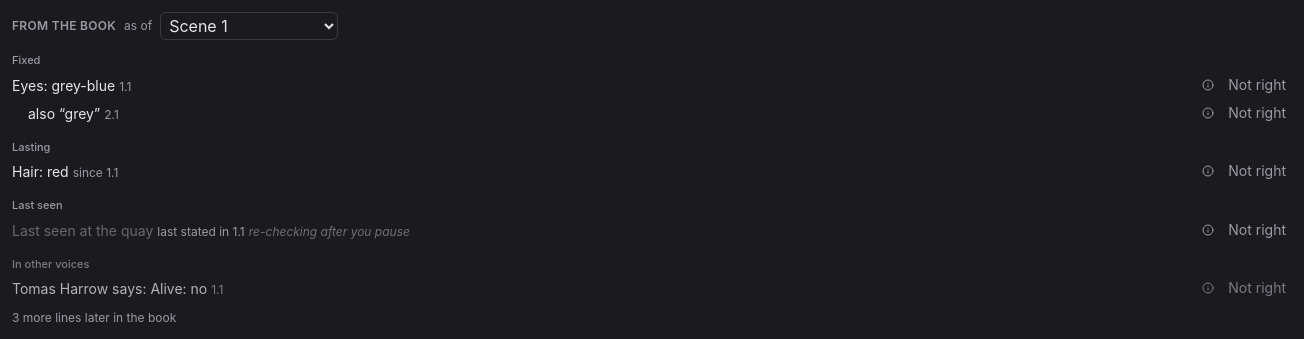
Test: FromTheBook (F-16.18) › reads again as of the scene picked, or the end of the book
The width and height of the screenshot is (1304, 339).
Expected: the element "Fixed" is shown, [12,44,1292,126]
Select "Scene 2" in the dropdown labelled "as of" at (249, 26), box [160,12,338,40]
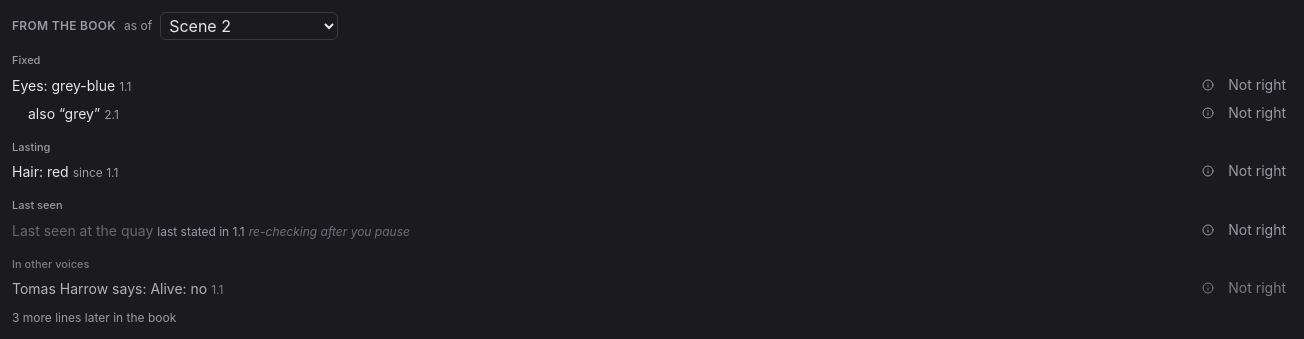
Select "the end of the book" in the dropdown labelled "as of" at (249, 26), box [160,12,338,40]
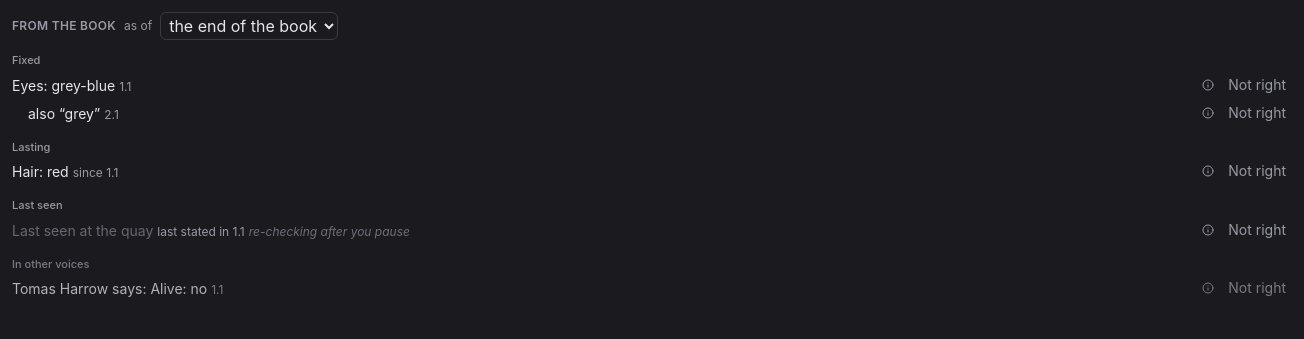
Now the text with test id "later-lines" is gone
